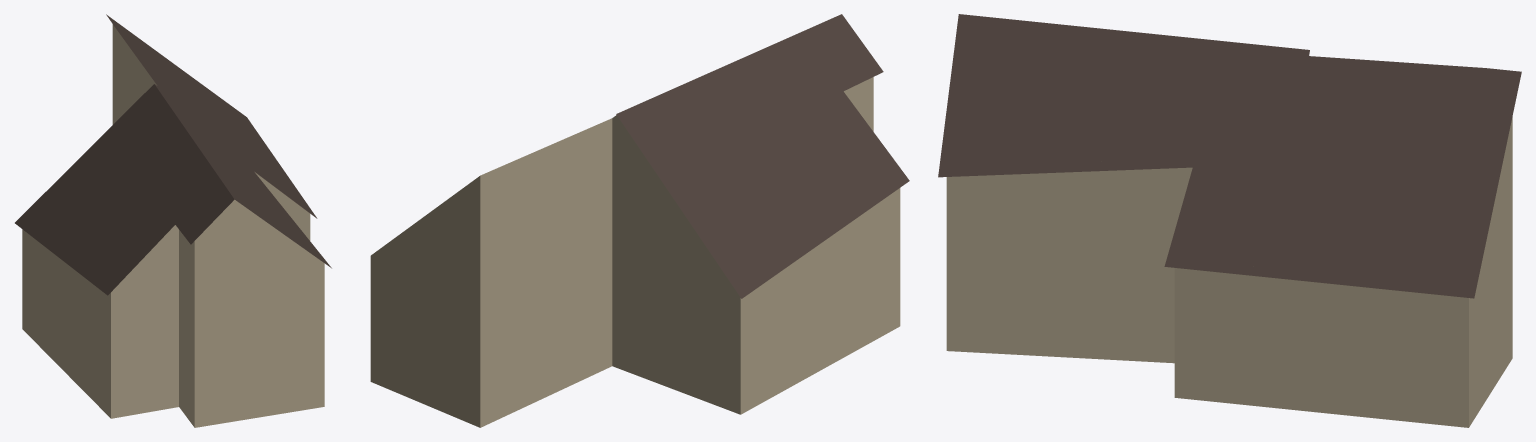
3 renders of one model, left to right at view 1: azimuth 30°, elevation 25°; view 2: azimuth 150°, elevation 25°; view 3: azimuth 270°, elevation 25°, orthographic. The views are drawn at different scales.
Parts seen in each view (by area): view 1: buildings; view 2: buildings; view 3: buildings.
Part boxes in pixels (x1,y1,x2,y2): buildings: [15, 14, 331, 427]; buildings: [370, 14, 909, 427]; buildings: [938, 14, 1521, 427].
Bounding box in the file's own units: 17.91 × 12.44 × 23.15.
